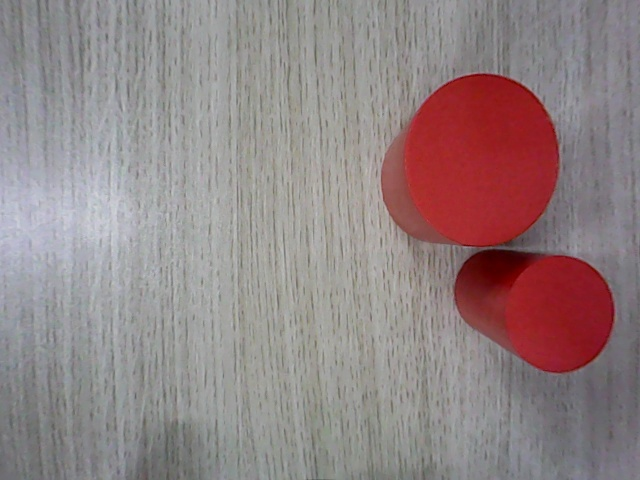upside of cylinder: (404, 73, 559, 246), (505, 255, 615, 373)
